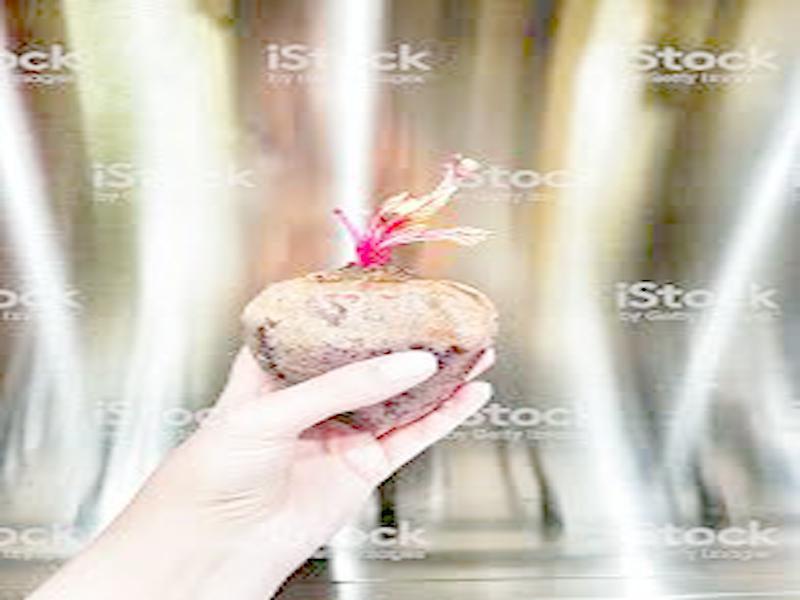Beet: (245, 161, 498, 432)
